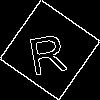R: (25, 25, 68, 76)
